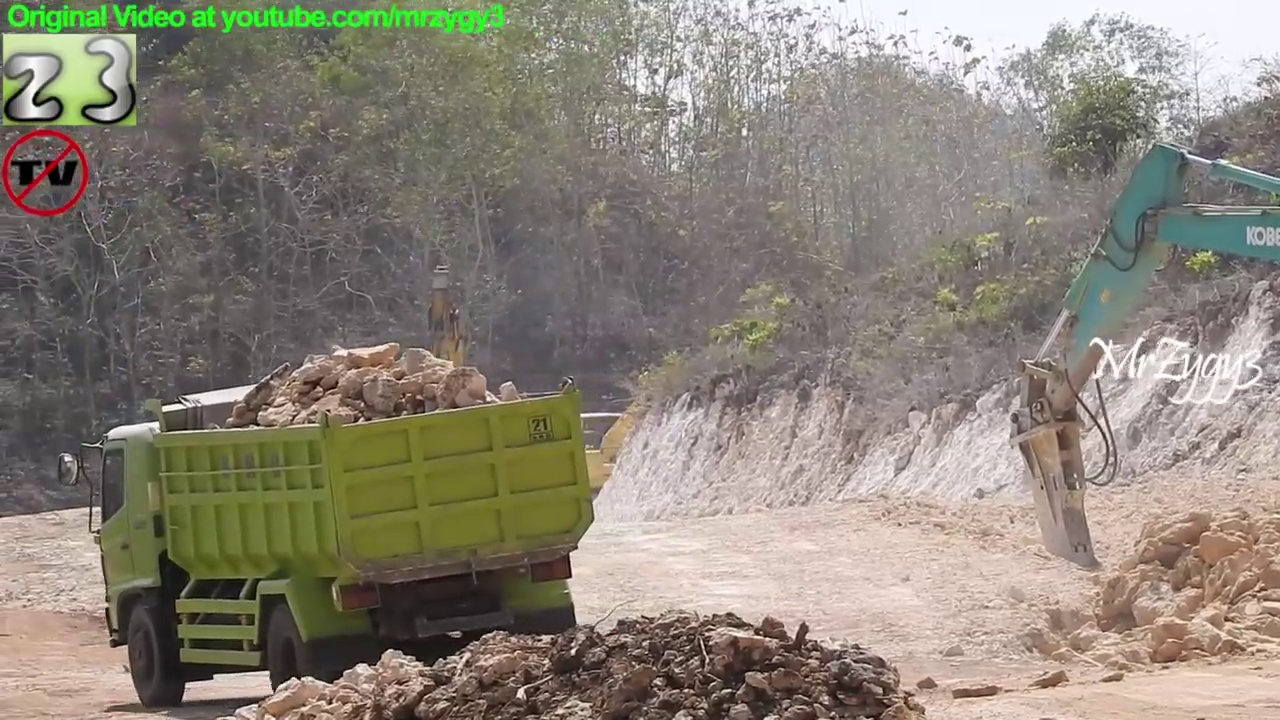excavator: (1006, 137, 1280, 582), (343, 257, 533, 585), (534, 361, 709, 541)
truck: (53, 368, 602, 712)
